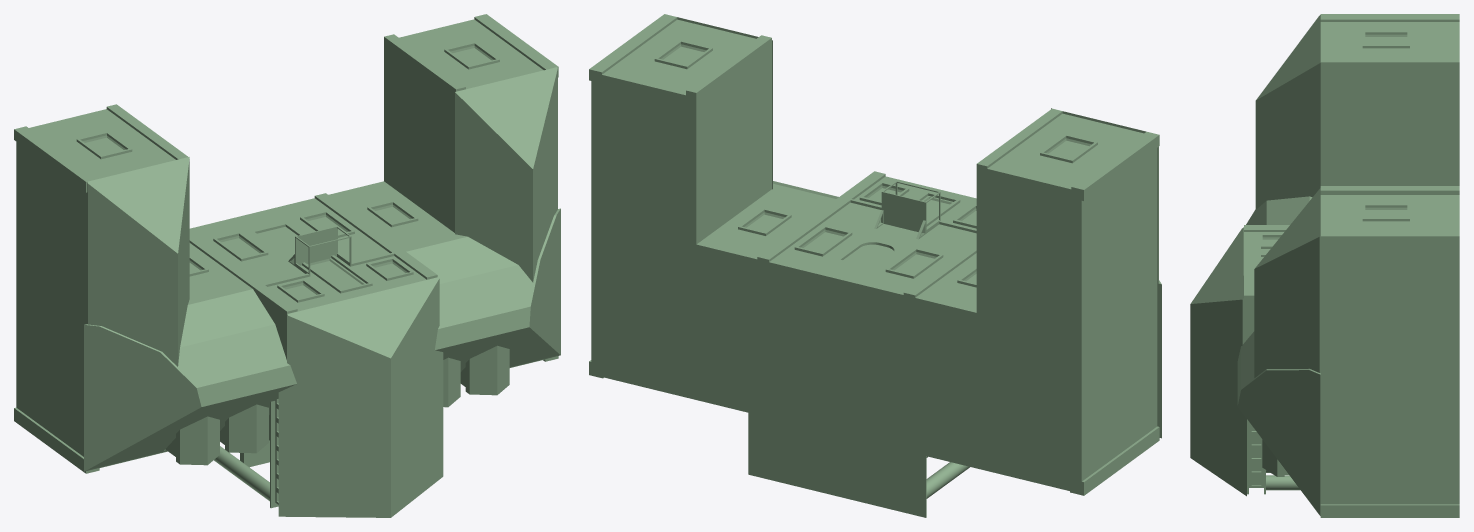
File: dwór w żytnie Kinga Wypart.obj
The picture shows the model from 3 angles, left to right: view 1: azimuth 30°, elevation 25°; view 2: azimuth 150°, elevation 25°; view 3: azimuth 270°, elevation 25°; orthographic projection. The views are drawn at different scales.
Parts seen in each view (by area): view 1: dwór w żytnie Kinga Wypart\Ciało stałe, dwór w żytnie Kinga Wypart\Powierzchnia (10), dwór w żytnie Kinga Wypart\Powierzchnia (11); view 2: dwór w żytnie Kinga Wypart\Ciało stałe, dwór w żytnie Kinga Wypart\Powierzchnia (10), dwór w żytnie Kinga Wypart\Powierzchnia (11); view 3: dwór w żytnie Kinga Wypart\Ciało stałe, dwór w żytnie Kinga Wypart\Powierzchnia (11).
Part boxes in pixels (box(x1,y1,x2,y2)): dwór w żytnie Kinga Wypart\Ciało stałe: box(14, 14, 560, 517); dwór w żytnie Kinga Wypart\Powierzchnia (10): box(189, 204, 411, 298); dwór w żytnie Kinga Wypart\Powierzchnia (11): box(83, 46, 493, 155); dwór w żytnie Kinga Wypart\Ciało stałe: box(589, 14, 1161, 517); dwór w żytnie Kinga Wypart\Powierzchnia (10): box(745, 185, 976, 283); dwór w żytnie Kinga Wypart\Powierzchnia (11): box(661, 44, 1091, 158); dwór w żytnie Kinga Wypart\Ciało stałe: box(1190, 14, 1459, 517); dwór w żytnie Kinga Wypart\Powierzchnia (11): box(1365, 34, 1407, 217).
Size of the model in its own units: 214 by 151 by 108.
